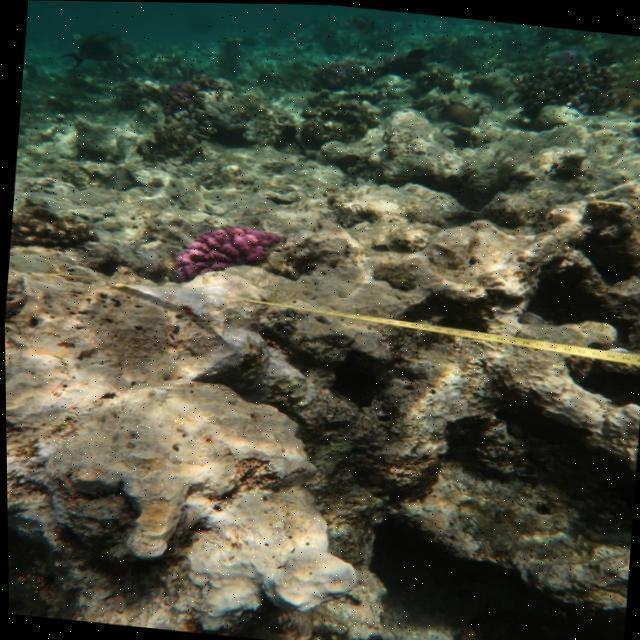Healthy Coral: (161, 212, 288, 294)
